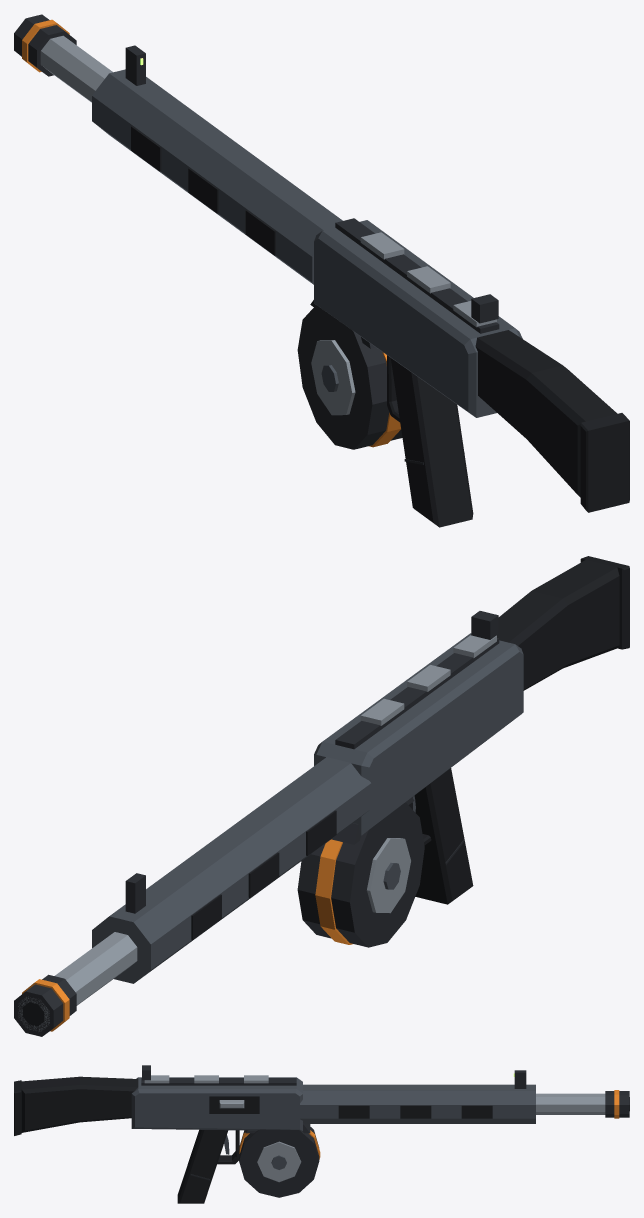
The model's file is shotgun_auto.glb.
The picture shows the model from 3 angles, top to bottom: view 1: azimuth 30°, elevation 25°; view 2: azimuth 150°, elevation 25°; view 3: azimuth 270°, elevation 25°; orthographic projection. The views are drawn at different scales.
Visible parts, largest first — view 1: Body, Magazine; view 2: Body, Magazine; view 3: Body, Magazine, Bolt.
Boxes of the visible parts, x1=… form: Body: x1=14, y1=14, x2=629, y2=527; Magazine: x1=297, y1=305, x2=402, y2=449; Body: x1=14, y1=556, x2=629, y2=1036; Magazine: x1=297, y1=802, x2=424, y2=947; Body: x1=14, y1=1065, x2=629, y2=1203; Magazine: x1=239, y1=1127, x2=320, y2=1197; Bolt: x1=219, y1=1100, x2=244, y2=1108.
Bounding box in the file's own units: 0.0707 × 0.224 × 0.9523.
